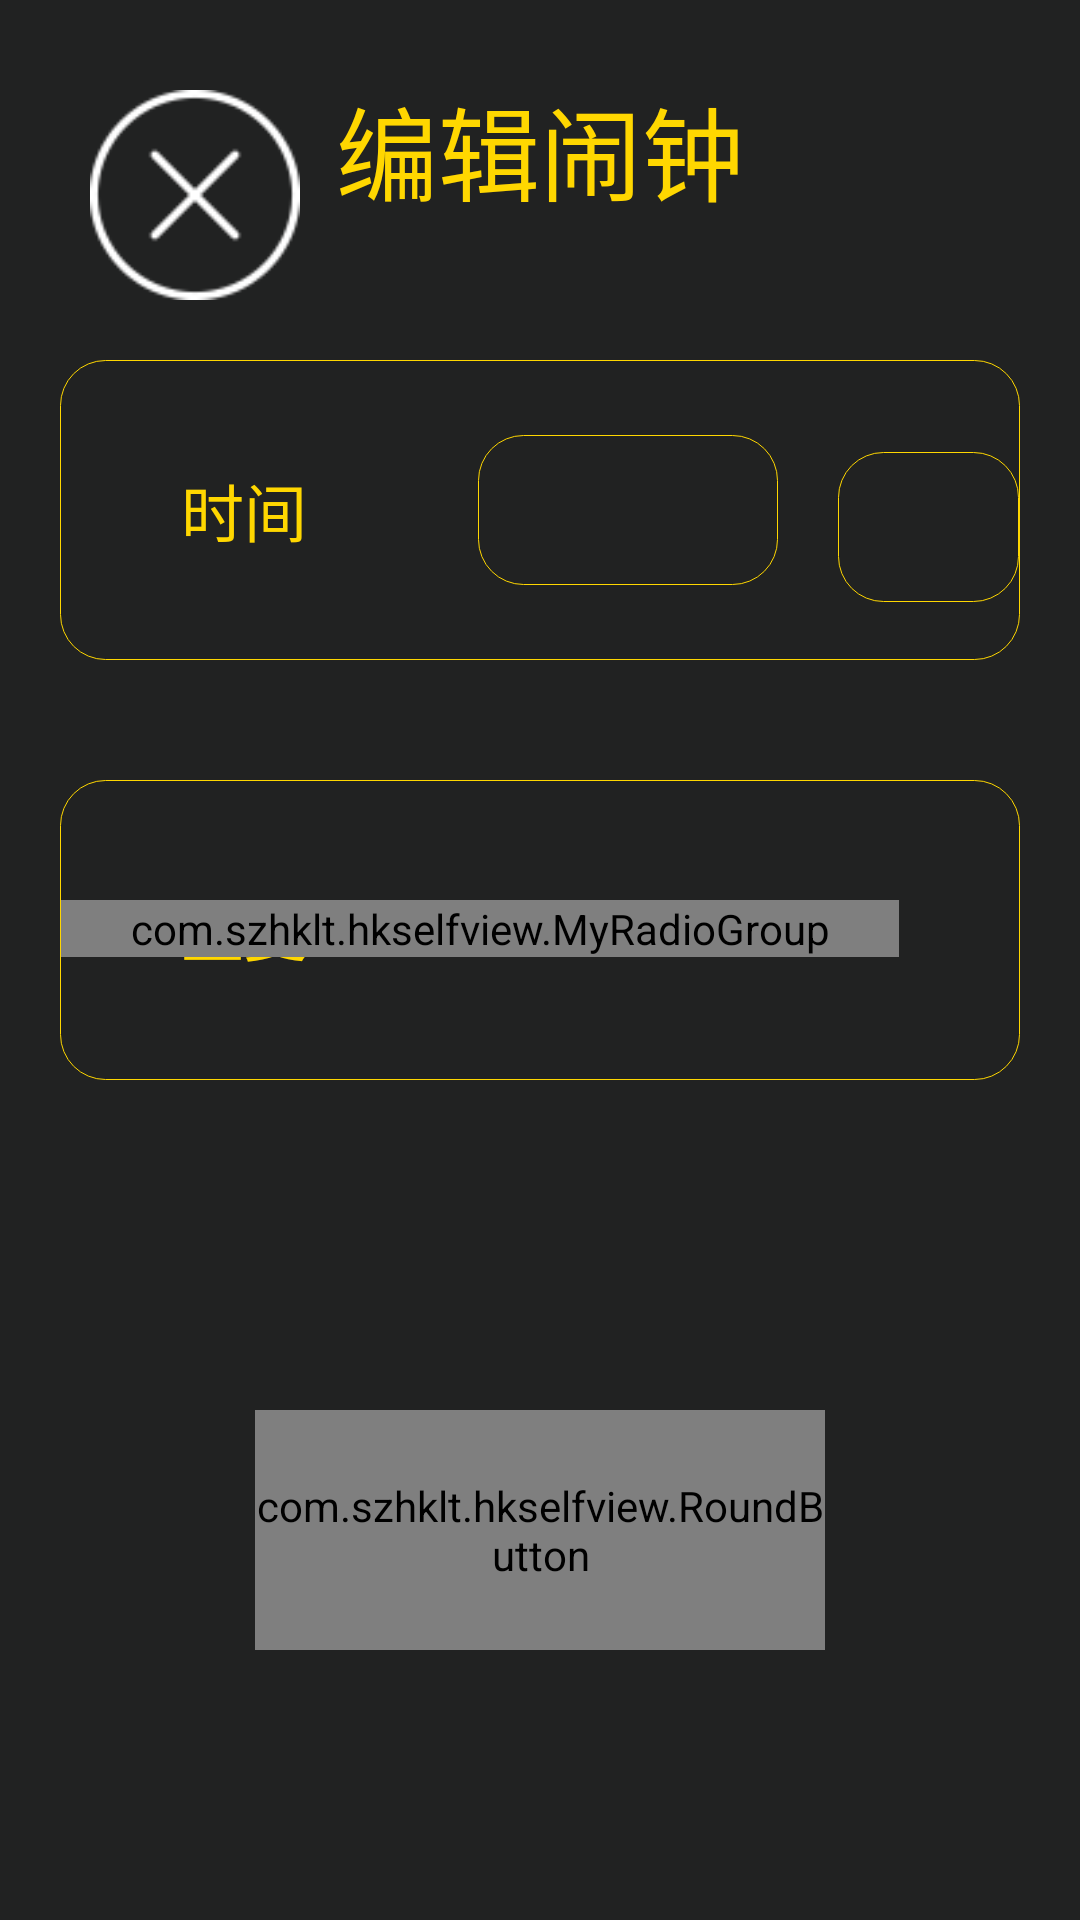

Screen size 1080x1920. Icon name, then its center in pixels as (x,y):
bussiness personal closed: (195,195)
